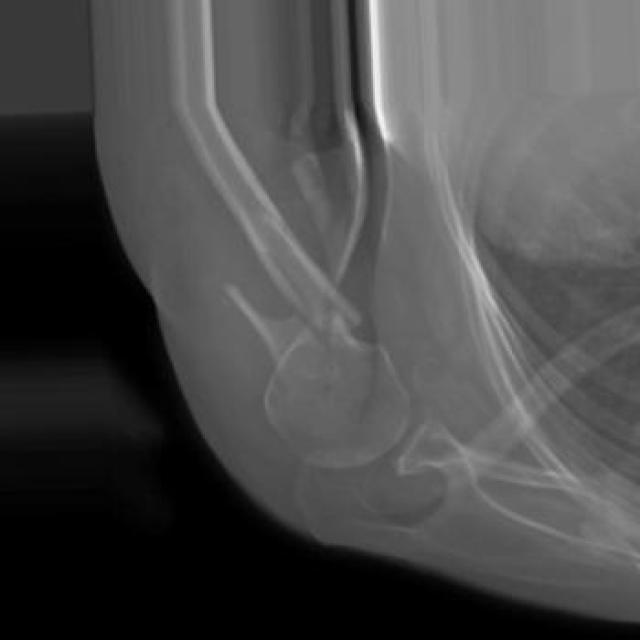Fracture: (208, 252, 378, 348)
